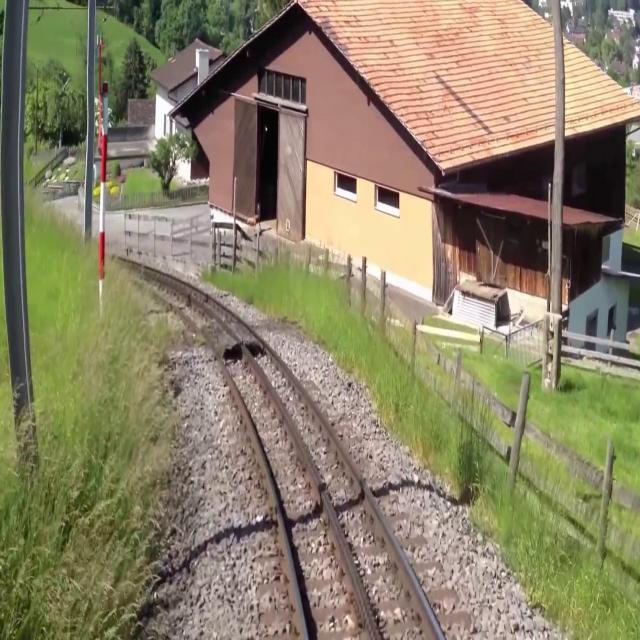rail-track: (113, 257, 441, 639)
